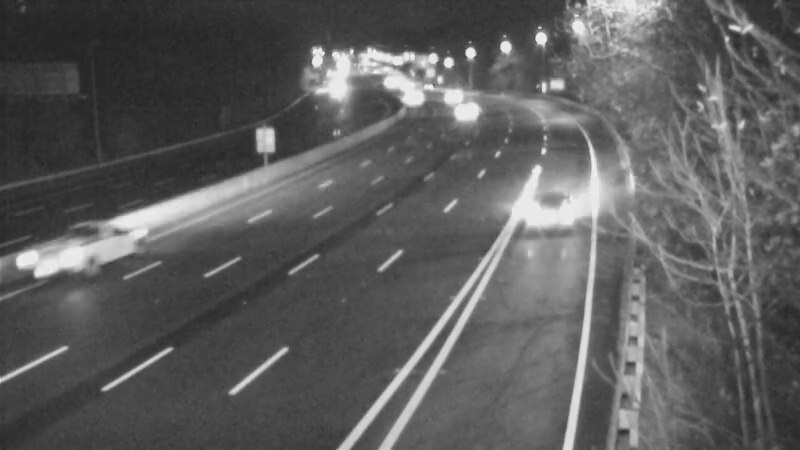vehicle: (509, 170, 589, 250), (6, 218, 86, 298), (422, 67, 472, 117), (381, 75, 431, 125), (434, 83, 484, 133)
